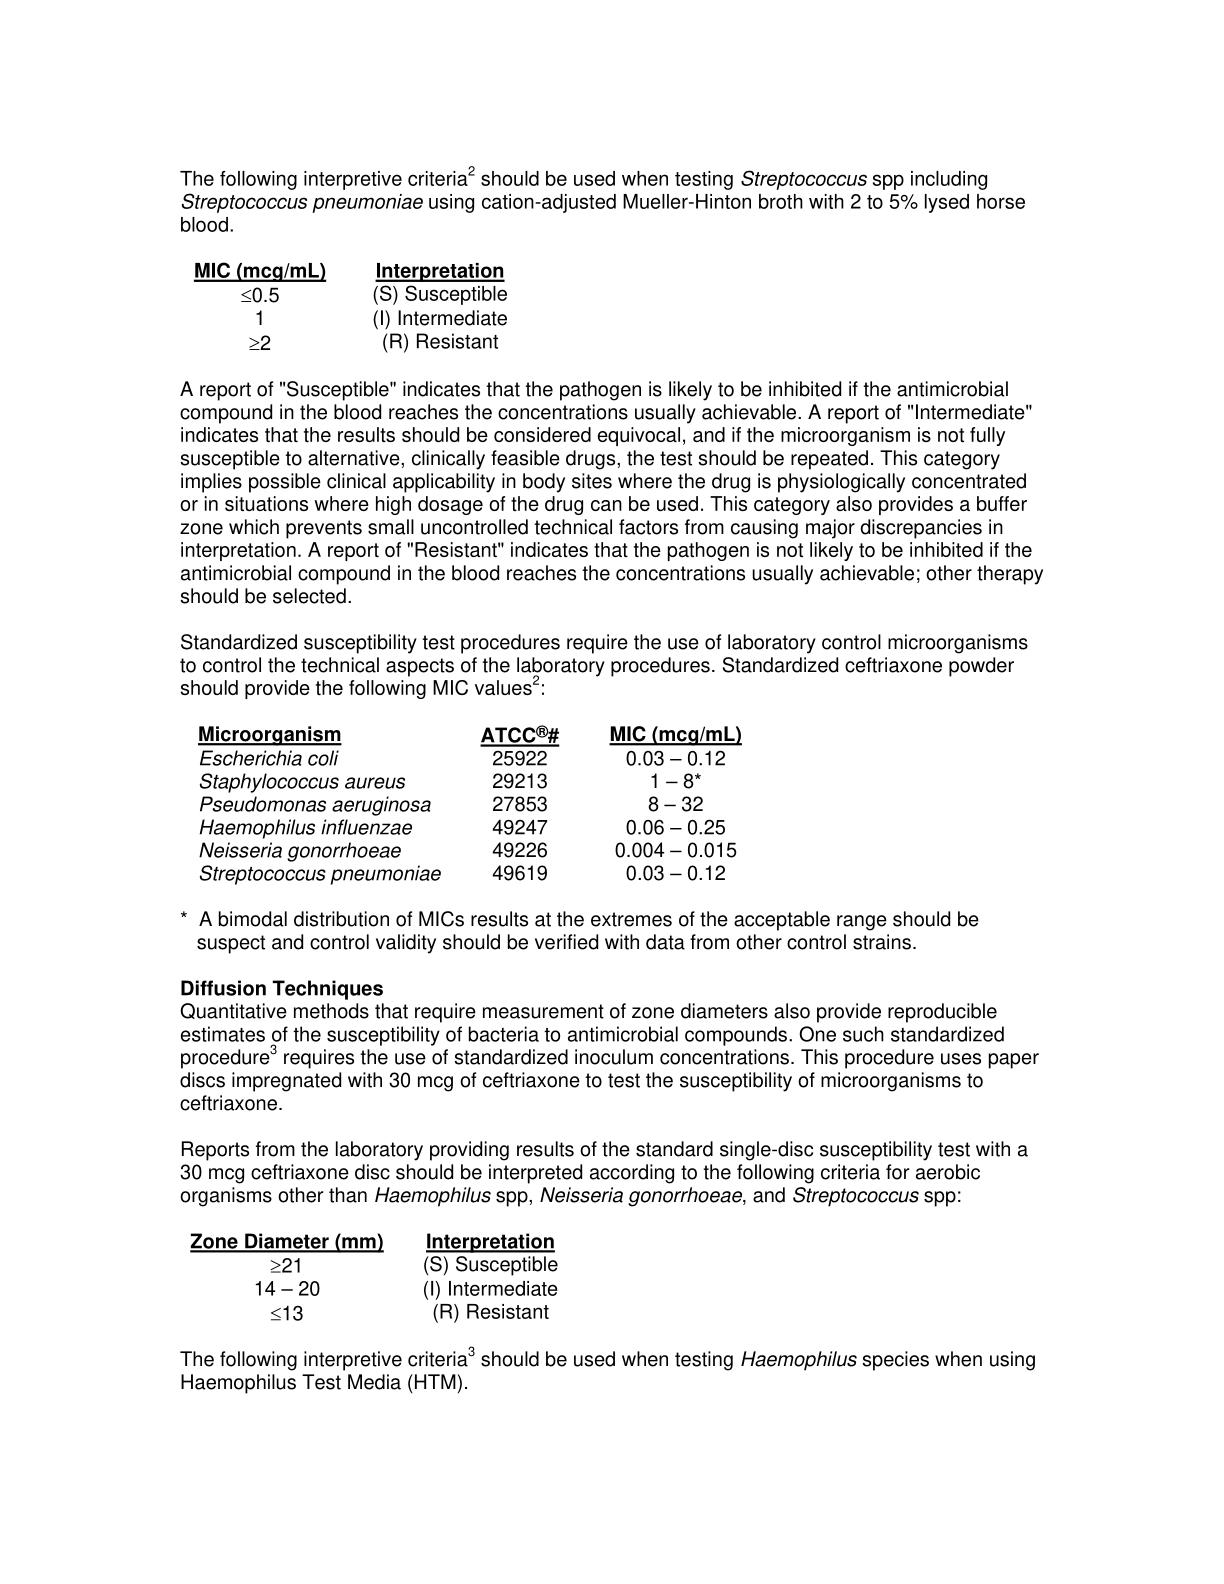nolines: (197, 724, 746, 882), (185, 1230, 562, 1326), (190, 258, 507, 354)
